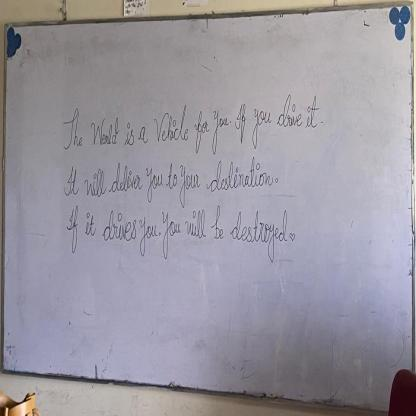Handwritten text: (63, 90, 324, 152), (63, 203, 289, 263), (57, 157, 273, 201)
Whiteboard: (0, 3, 415, 416)
